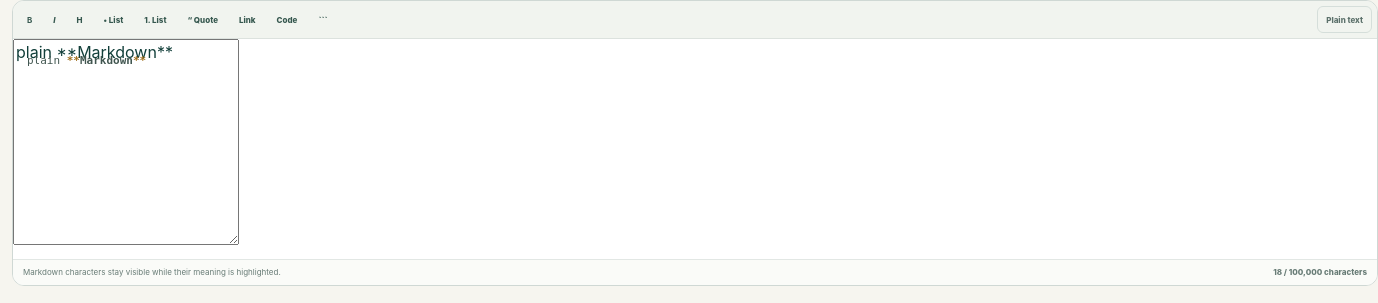
Test case: MarkdownNoteEditor › offers every required toolbar action and a plain-text fallback
Expected: the button named "Bold" is shown, [18,6,41,33]
Expected: the button named "Italic" is shown, [44,6,65,33]
Click the button with aria-label "Use plain-text fallback".
click(1345, 20)  # box [1317,6,1372,33]
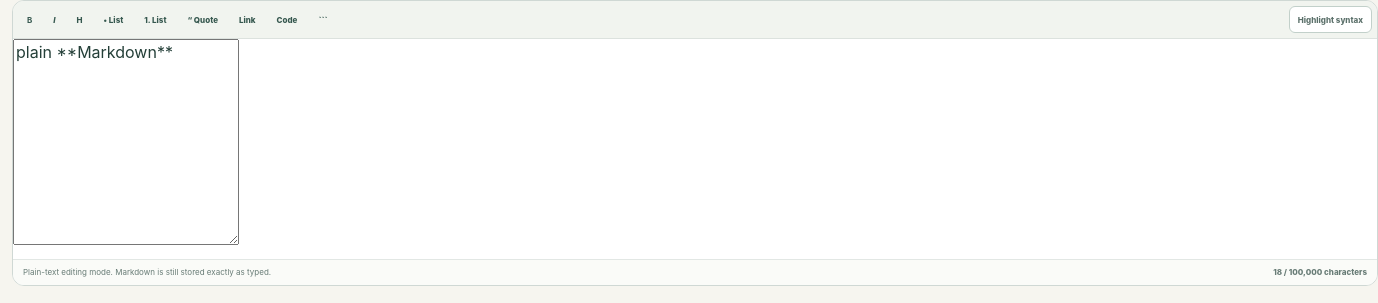
Expected: the text box named "Note body" holds "plain **Markdown**", [13,39,239,245]
Now the element with class "markdown-editor-highlight" is gone
